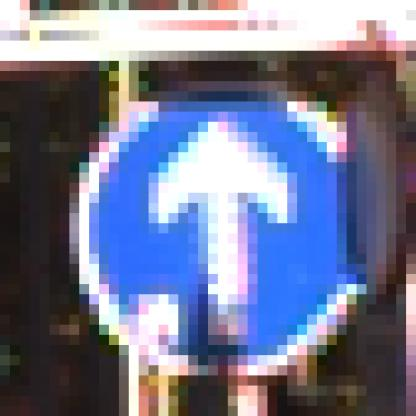AheadOnly: (61, 52, 358, 366)
